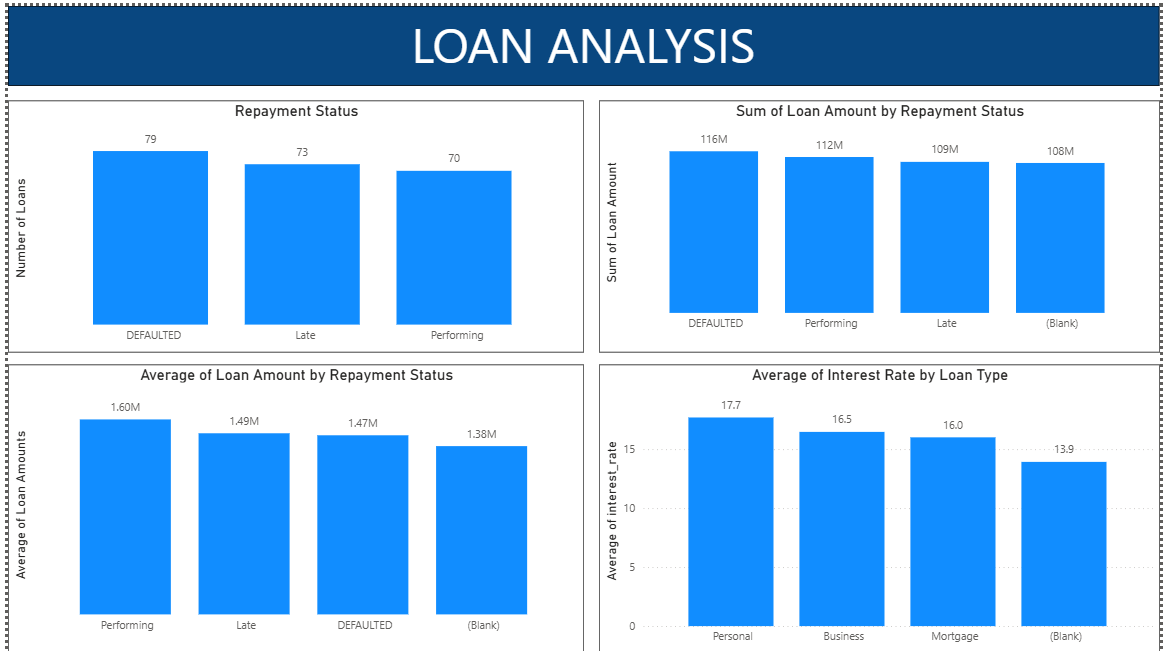

The dashboard page shown, as its layout file describes it:
{"tool":"powerbi","page":{"name":"Loan Analysis","canvas":[1280,720],"ordinal":2},"visuals":[{"type":"clusteredColumnChart","title":"Repayment Status","fields":{"Category":["public fact_loans.repayment_status"],"Y":["CountNonNull(public fact_loans.repayment_status)"]},"box":[0,105,640,280],"z":0},{"type":"clusteredColumnChart","title":"Average of Loan Amount by Repayment Status","fields":{"Category":["public fact_loans.repayment_status"],"Y":["Avg(public fact_loans.loan_amount)"]},"box":[0,398.3,640,321.7],"z":1000},{"type":"clusteredColumnChart","title":"Sum of Loan Amount by Repayment Status","fields":{"Category":["public fact_loans.repayment_status"],"Y":["Sum(public fact_loans.loan_amount)"]},"box":[656.7,105,623.3,280],"z":2000},{"type":"clusteredColumnChart","title":"Average of Interest Rate by Loan Type","fields":{"Category":["public fact_loans.loan_type"],"Y":["Avg(public fact_loans.interest_rate)"]},"box":[656.7,398.3,623.3,321.7],"z":3000},{"type":"textbox","box":[0,0,1279.4,88.8],"z":4000}]}

Visuals, with their boxes in screenshot pixels (x1, y1, x2, y2), scaled from the page's 1280x720 canvas onto the 1167x651 screenshot:
"Repayment Status" clusteredColumnChart: locate(0, 95, 584, 348)
"Average of Loan Amount by Repayment Status" clusteredColumnChart: locate(0, 360, 584, 650)
"Sum of Loan Amount by Repayment Status" clusteredColumnChart: locate(599, 95, 1166, 348)
"Average of Interest Rate by Loan Type" clusteredColumnChart: locate(599, 360, 1166, 650)
textbox: locate(0, 0, 1166, 80)
